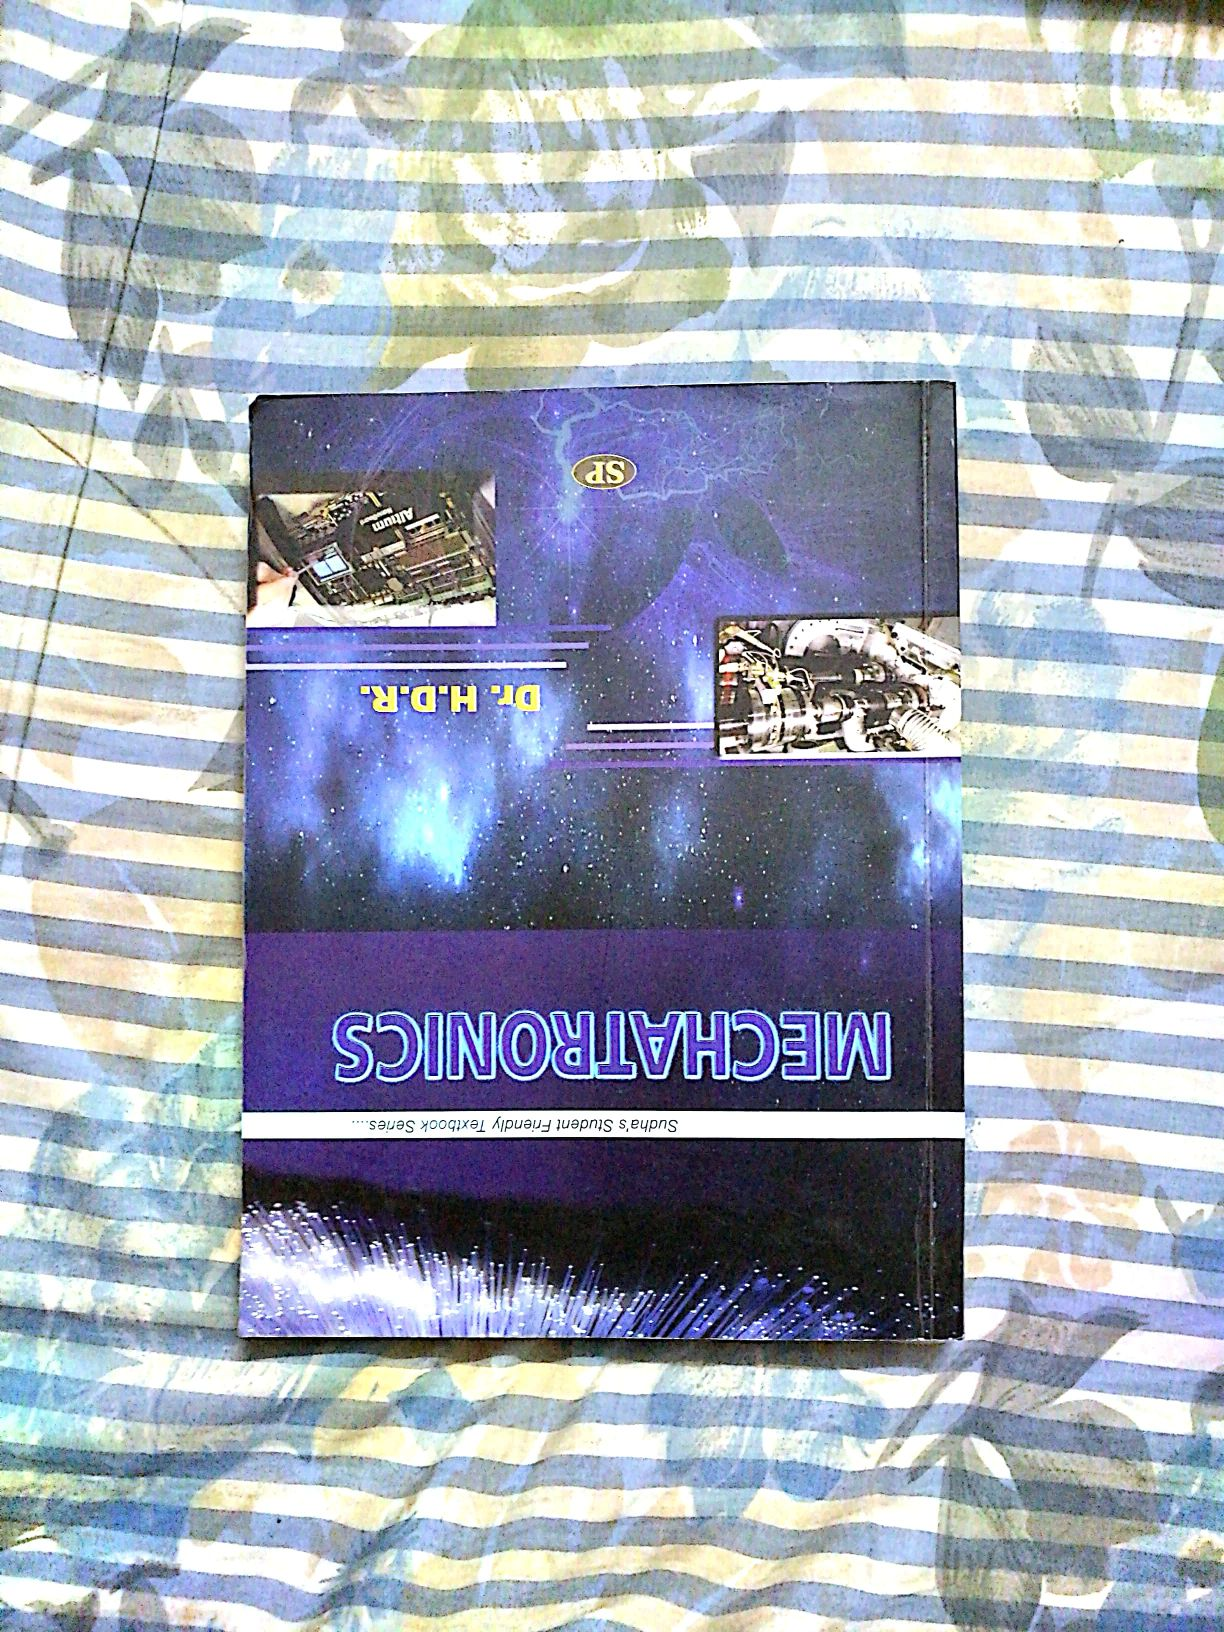mechatronics: (215, 371, 1005, 1360)
